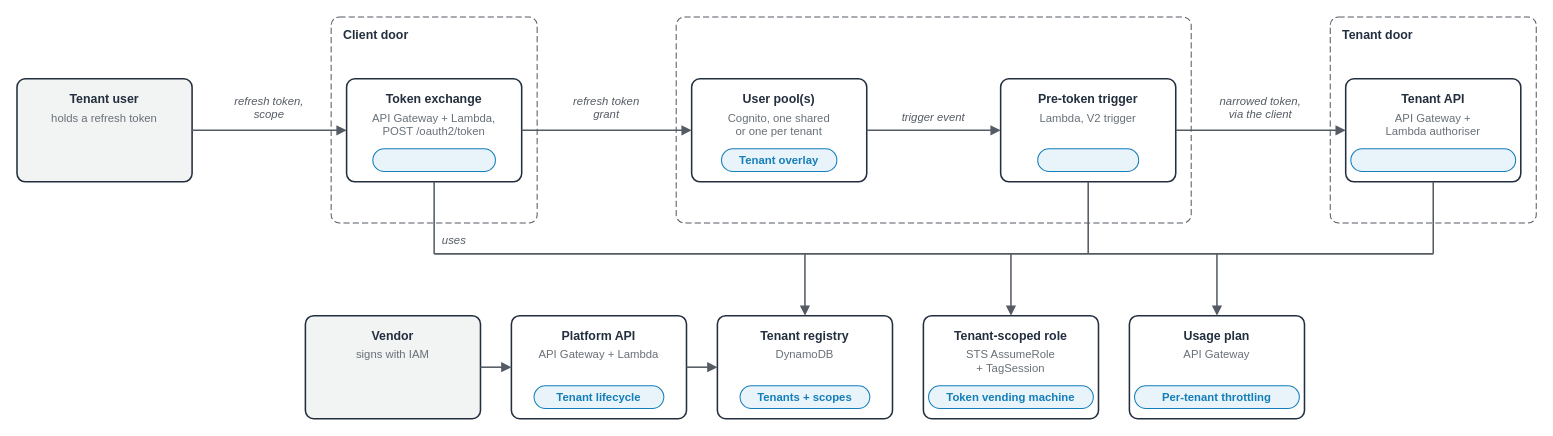
Image size: 1553x436. Some labels were removed from this diagram. Each missing label, with the box of its shape:
Issuer: (675, 16, 1191, 223)
Tenant claim: (1037, 148, 1139, 171)
Tenant from the token: (1350, 148, 1516, 171)
Token narrowing: (372, 148, 495, 171)
